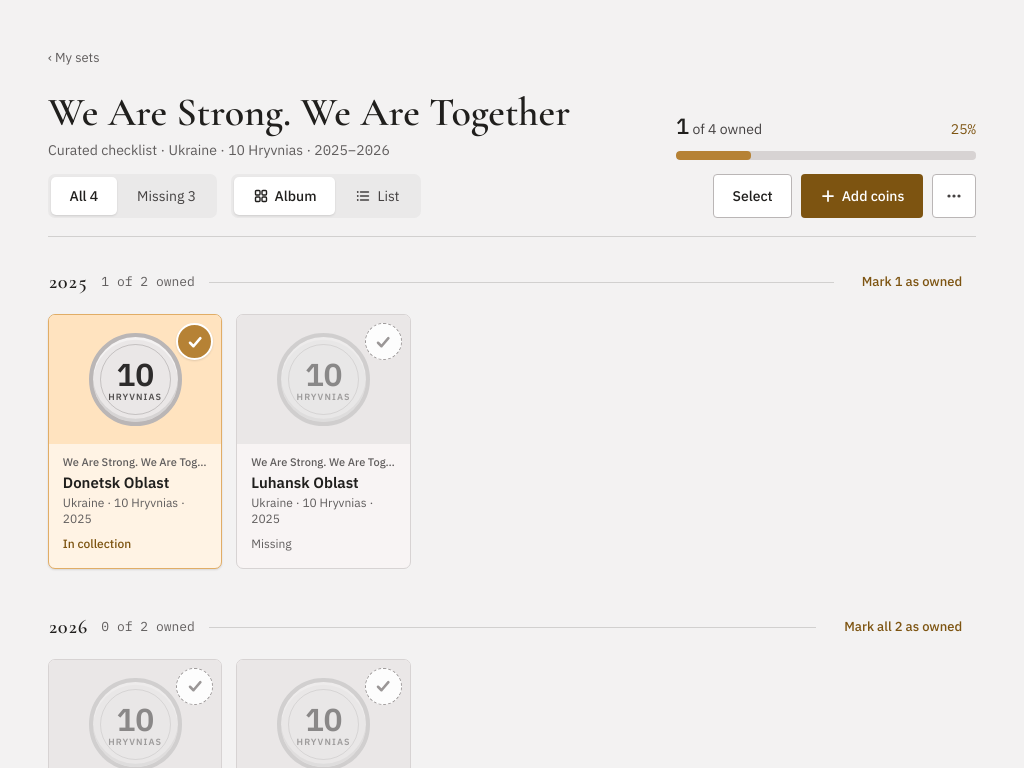
Test: SetEditorPage: Album default, views and year groups › controls keep working in album view › keeps Download and Print in the set menu, and the Missing count in the segments
This screenshot has width=1024, height=768.
Expected: the 1st list with test id "set-album-grid" is shown, [48,314,411,569]
What coordinates should you click on to do the following:
click the button with test id "set-editor-actions-trigger"
I would click on:
 (954, 196)
Its box is [932,174,976,218].
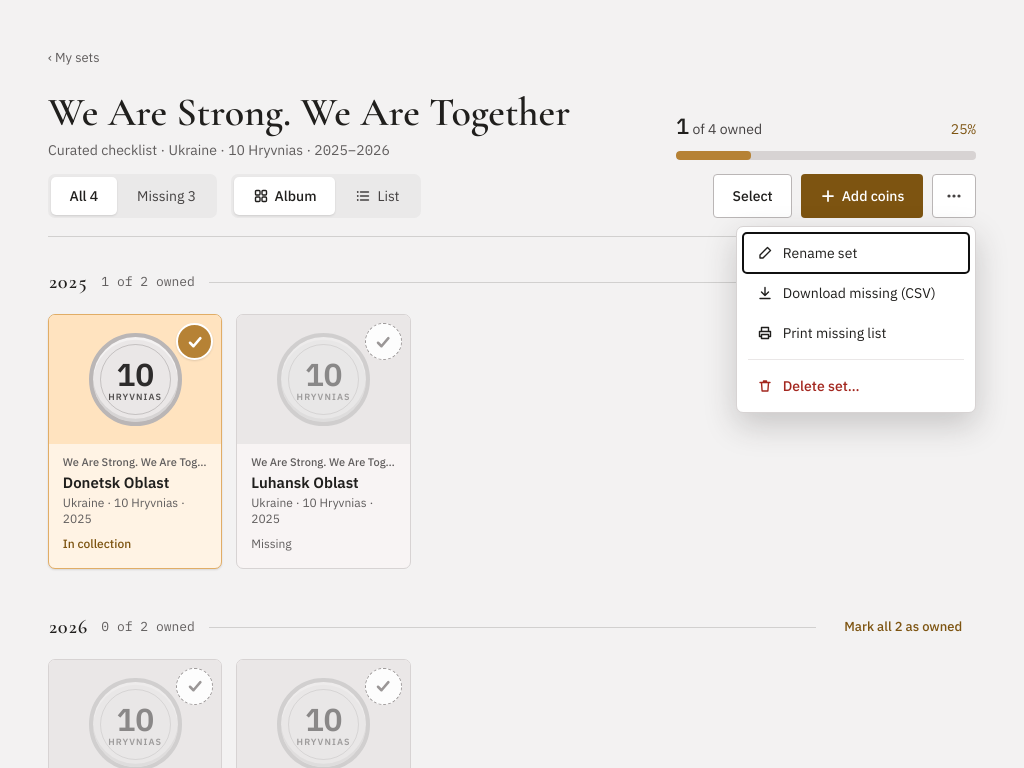
Expected: the button with test id "set-editor-show-missing-toggle" reads "Missing 3", [119,177,214,215]
Expected: the menu item with test id "set-editor-download-missing" is shown, [743,273,969,313]
Expected: the menu item with test id "set-editor-print-missing" is shown, [757,324,886,342]
